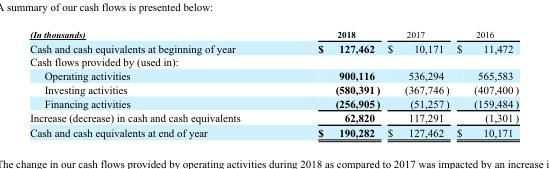table: (29, 29, 518, 138)
table column: (29, 29, 278, 138), (278, 29, 383, 138), (383, 29, 452, 138), (452, 29, 518, 138)
table column header: (29, 29, 518, 40)
table projected row header: (29, 54, 518, 68)
table row: (29, 95, 518, 110), (29, 40, 518, 54), (29, 54, 518, 68), (29, 68, 518, 82), (29, 110, 518, 124), (29, 124, 518, 138), (29, 82, 518, 95), (29, 29, 518, 40)
